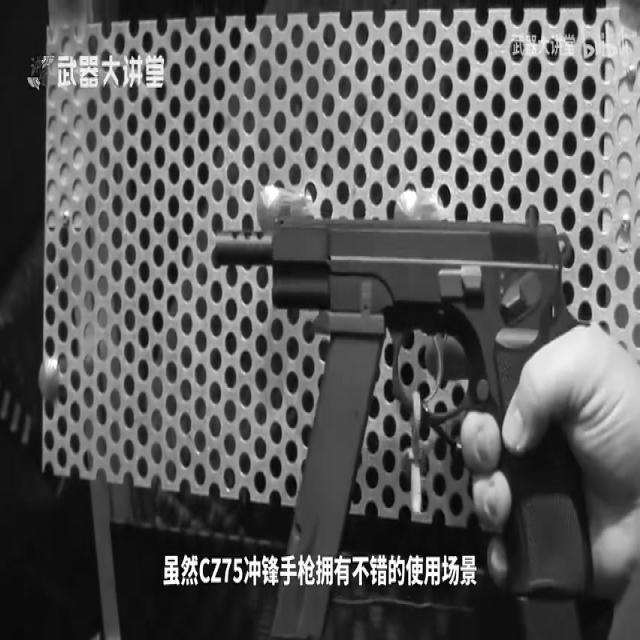Hand-Gun: (203, 189, 563, 640)
